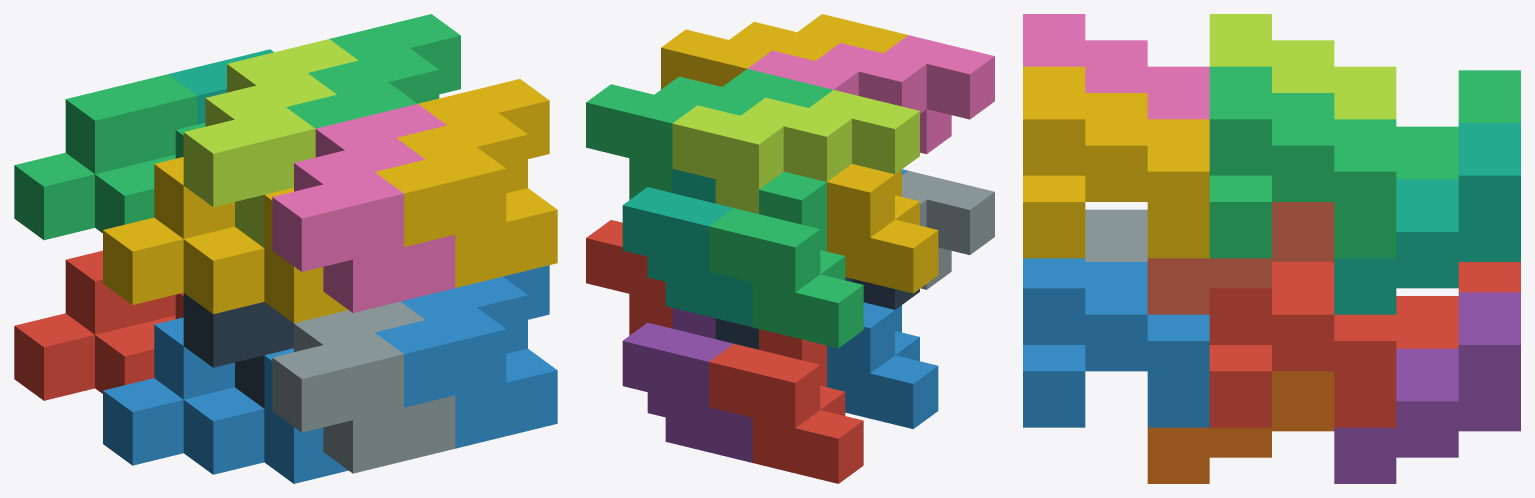
The model's file is tiling.obj.
3 views of the same model, side by side, from view 1: azimuth 30°, elevation 25°; view 2: azimuth 150°, elevation 25°; view 3: azimuth 270°, elevation 25° (orthographic). The views are drawn at different scales.
Visible parts, largest first — view 1: copy_2_domain_8, copy_2_domain_4, copy_2_domain_6, copy_2_domain_2, copy_1_domain_2, copy_1_domain_4, copy_1_domain_3, copy_2_domain_3, copy_1_domain_1, copy_2_domain_7, copy_2_domain_1, copy_1_domain_7; view 2: copy_2_domain_3, copy_1_domain_3, copy_1_domain_1, copy_2_domain_4, copy_2_domain_7, copy_1_domain_7, copy_1_domain_5, copy_1_domain_4, copy_1_domain_2, copy_2_domain_8, copy_2_domain_2, copy_2_domain_5 (+1 smaller); view 3: copy_2_domain_7, copy_2_domain_8, copy_2_domain_6, copy_2_domain_5, copy_1_domain_5, copy_1_domain_7, copy_2_domain_3, copy_2_domain_4, copy_1_domain_6, copy_1_domain_8, copy_1_domain_3, copy_1_domain_1 (+1 smaller).
Boxes of the visible parts, left/top/right/bottom form: copy_2_domain_8: left=375, top=79, right=557, bottom=287; copy_2_domain_4: left=272, top=104, right=455, bottom=312; copy_2_domain_6: left=375, top=265, right=557, bottom=448; copy_2_domain_2: left=272, top=301, right=455, bottom=473; copy_1_domain_2: left=103, top=317, right=348, bottom=483; copy_1_domain_4: left=103, top=157, right=347, bottom=323; copy_1_domain_3: left=14, top=74, right=205, bottom=240; copy_2_domain_3: left=183, top=39, right=358, bottom=247; copy_1_domain_1: left=14, top=250, right=183, bottom=400; copy_2_domain_7: left=286, top=14, right=460, bottom=128; copy_2_domain_1: left=183, top=293, right=293, bottom=408; copy_1_domain_7: left=168, top=49, right=273, bottom=124; copy_2_domain_3: left=672, top=90, right=919, bottom=213; copy_1_domain_3: left=709, top=171, right=863, bottom=348; copy_1_domain_1: left=709, top=329, right=863, bottom=483; copy_2_domain_4: left=747, top=35, right=994, bottom=154; copy_2_domain_7: left=586, top=69, right=833, bottom=199; copy_1_domain_7: left=622, top=168, right=752, bottom=326; copy_1_domain_5: left=622, top=308, right=752, bottom=462; copy_1_domain_4: left=827, top=164, right=938, bottom=293; copy_1_domain_2: left=827, top=302, right=938, bottom=428; copy_2_domain_8: left=661, top=14, right=907, bottom=89; copy_2_domain_2: left=902, top=170, right=994, bottom=289; copy_2_domain_5: left=586, top=220, right=672, bottom=335; copy_2_domain_7: left=1209, top=66, right=1396, bottom=258; copy_2_domain_8: left=1023, top=66, right=1209, bottom=258; copy_2_domain_6: left=1023, top=258, right=1209, bottom=427; copy_2_domain_5: left=1209, top=262, right=1396, bottom=427; copy_1_domain_5: left=1334, top=292, right=1520, bottom=483; copy_1_domain_7: left=1334, top=123, right=1520, bottom=314; copy_2_domain_3: left=1209, top=14, right=1396, bottom=119; copy_2_domain_4: left=1023, top=14, right=1209, bottom=119; copy_1_domain_6: left=1147, top=371, right=1334, bottom=483; copy_1_domain_8: left=1147, top=202, right=1334, bottom=314; copy_1_domain_3: left=1396, top=70, right=1520, bottom=179; copy_1_domain_1: left=1396, top=262, right=1520, bottom=348.
Bounding box in the file's own units: 7 × 6 × 8.
